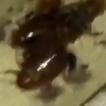cockroach: (13, 14, 84, 46), (16, 47, 67, 89)
